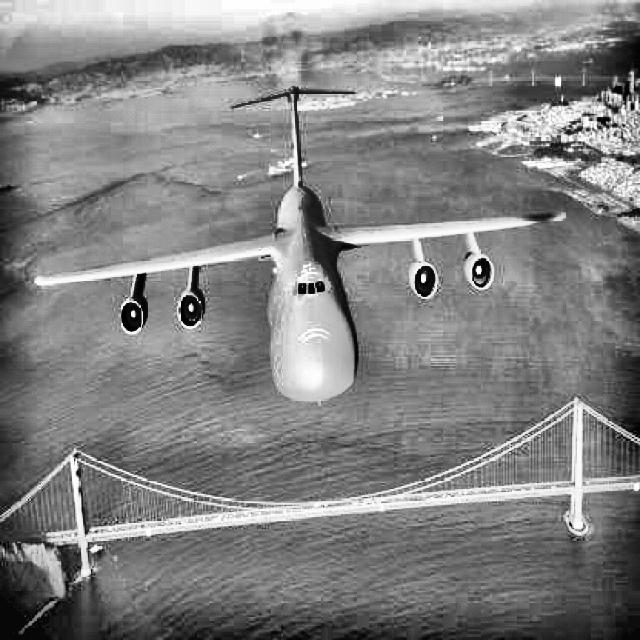C5: (36, 86, 566, 406)
